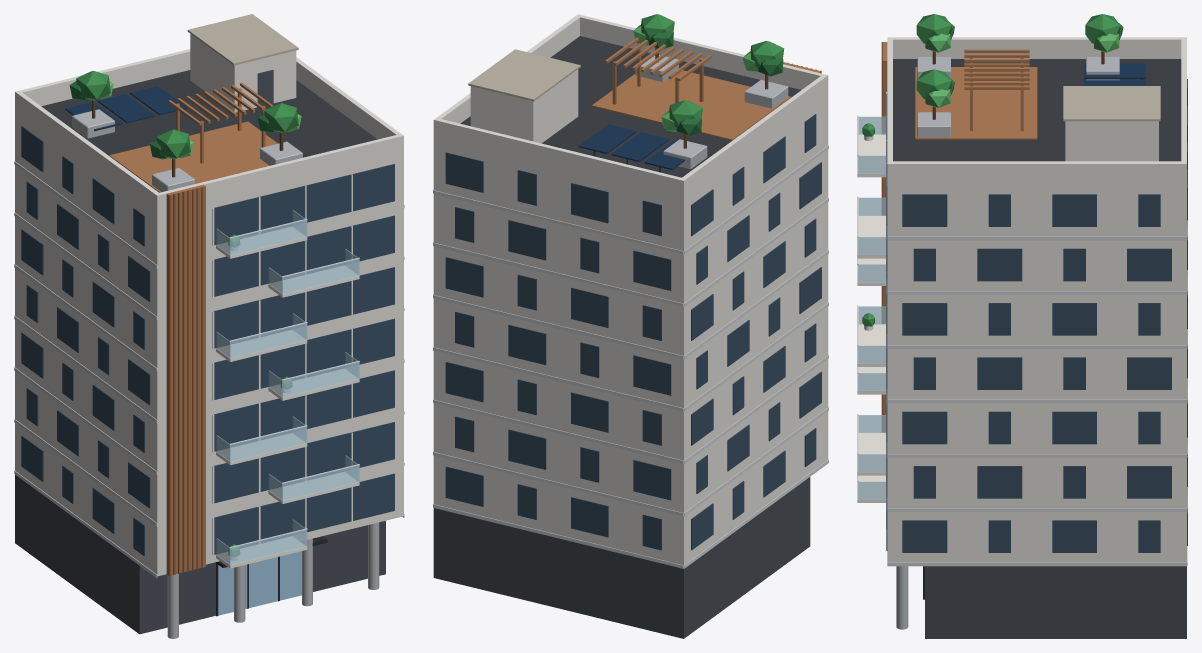
Rendered from modern.glb.
3 views of the same model, side by side, from view 1: azimuth 30°, elevation 25°; view 2: azimuth 150°, elevation 25°; view 3: azimuth 270°, elevation 25° (orthographic). The views are drawn at different scales.
Parts seen in each view (by area): view 1: modern; view 2: modern; view 3: modern.
Part boxes in pixels (x1,y1,x2,y2): modern: [14, 14, 404, 638]; modern: [433, 14, 828, 638]; modern: [857, 14, 1187, 638].
Size of the model in its own units: 16.1 by 30.53 by 17.67.
